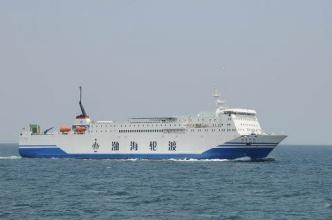youlun: (13, 100, 287, 158)
